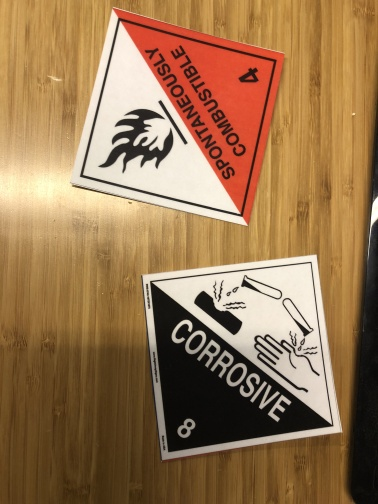Corrosive: (140, 254, 344, 462)
SpontaneouslyCombustible: (71, 8, 285, 227)
